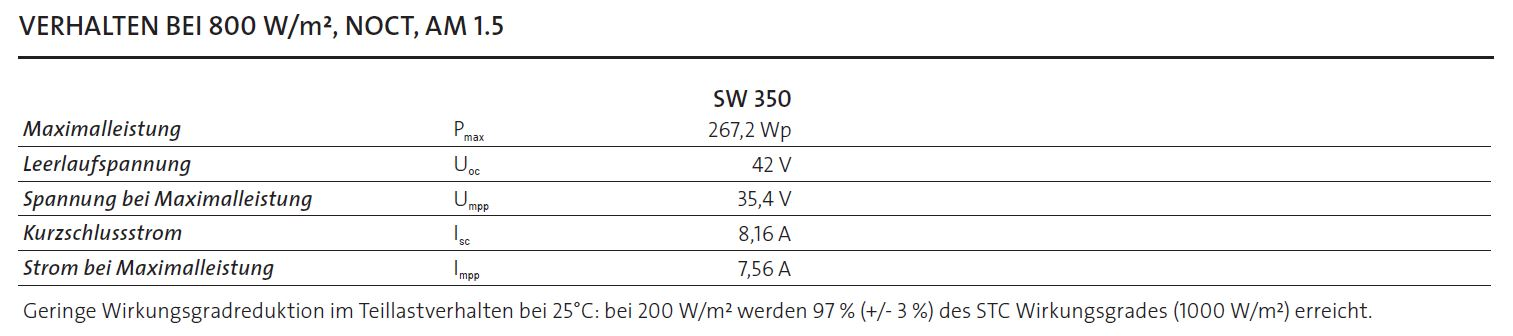table: (9, 49, 844, 291)
table column: (15, 56, 404, 285), (559, 56, 842, 286), (403, 56, 559, 285)
table name: (9, 6, 534, 47)
table row: (13, 59, 842, 143), (8, 250, 843, 286), (10, 215, 845, 250), (9, 146, 845, 180), (8, 184, 842, 214)
table row header: (16, 53, 404, 283)
